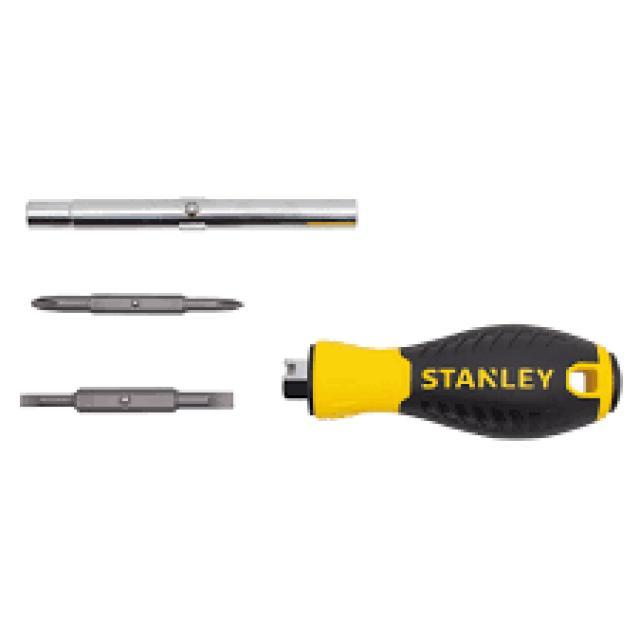screwdriver: (268, 322, 622, 463)
